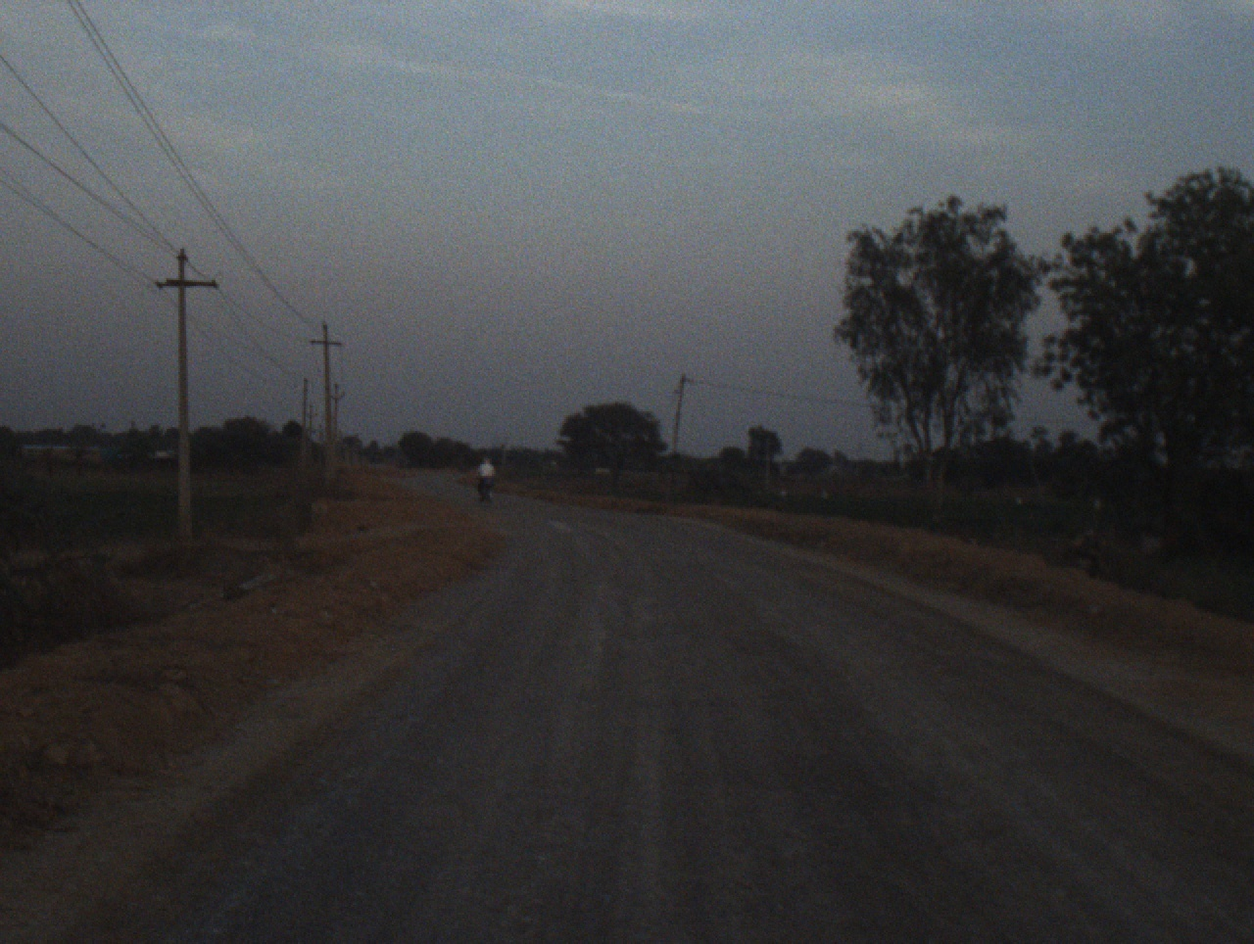bicycle: (481, 477, 496, 500)
rider: (477, 456, 499, 500)
